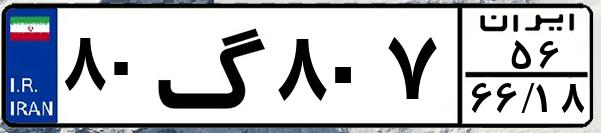0: (330, 28, 385, 110), (110, 28, 156, 98)
1: (535, 70, 560, 125)
5: (508, 27, 537, 80)
6: (537, 27, 568, 80), (470, 70, 495, 125), (495, 70, 520, 125)
7: (385, 28, 445, 110)
8: (270, 28, 330, 110), (57, 26, 110, 100), (560, 70, 590, 125)
گ: (156, 12, 270, 120)
